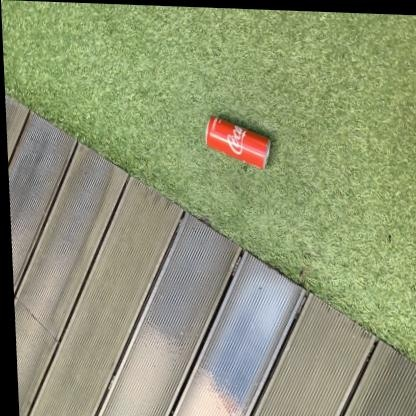trash: (206, 116, 269, 168)
